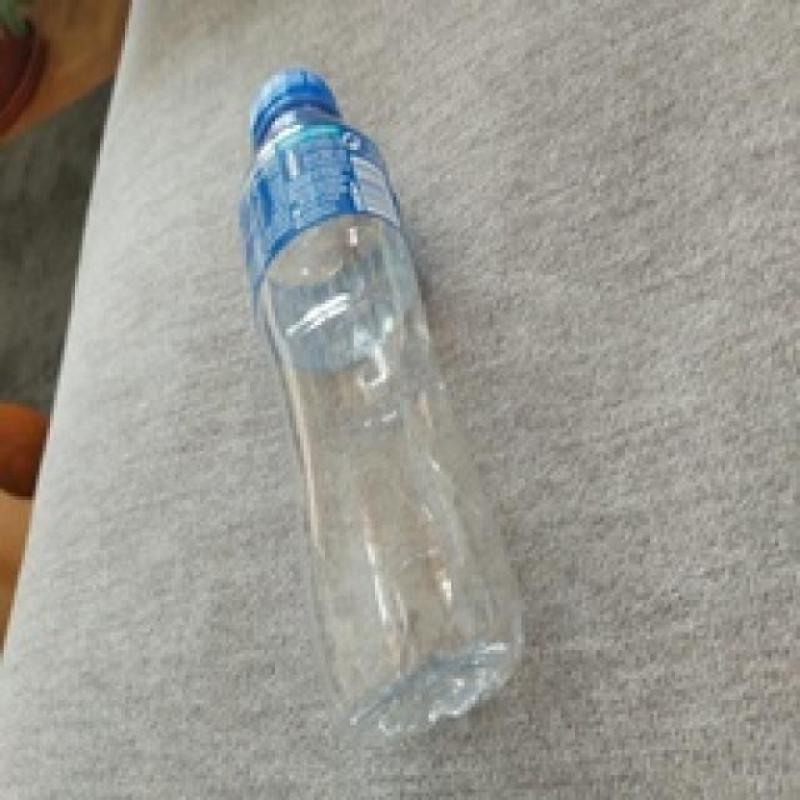botella: (239, 68, 526, 738)
